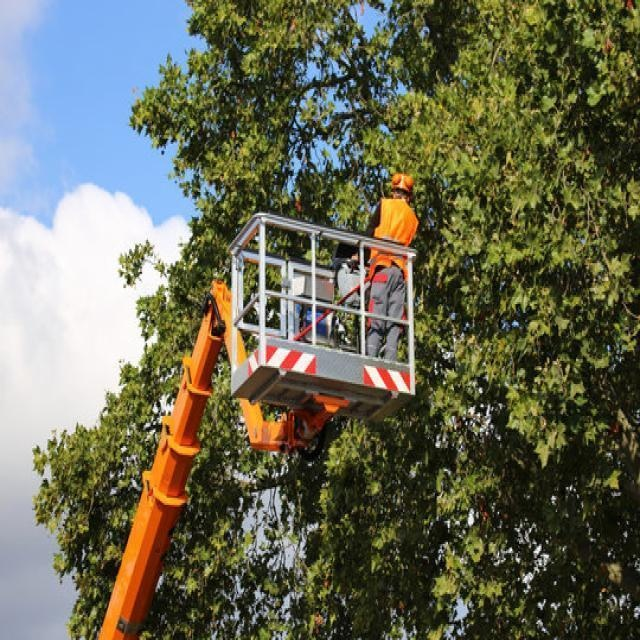Arnes_seguridad: (368, 251, 407, 303)
